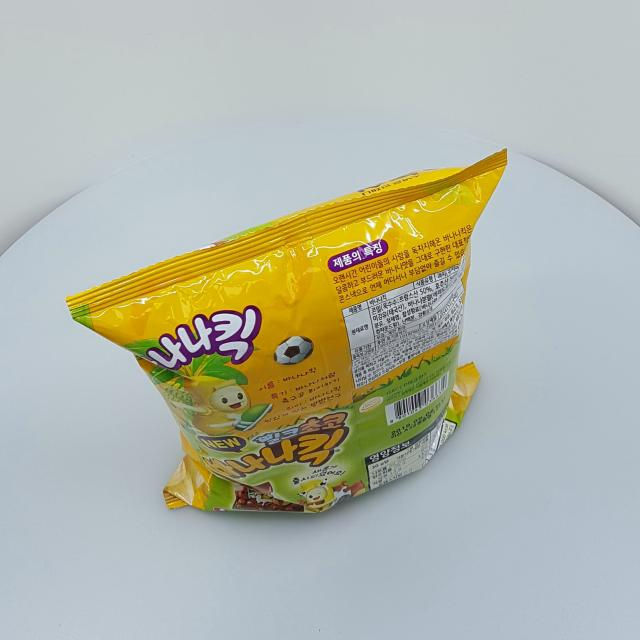-75G: (66, 149, 509, 514)
